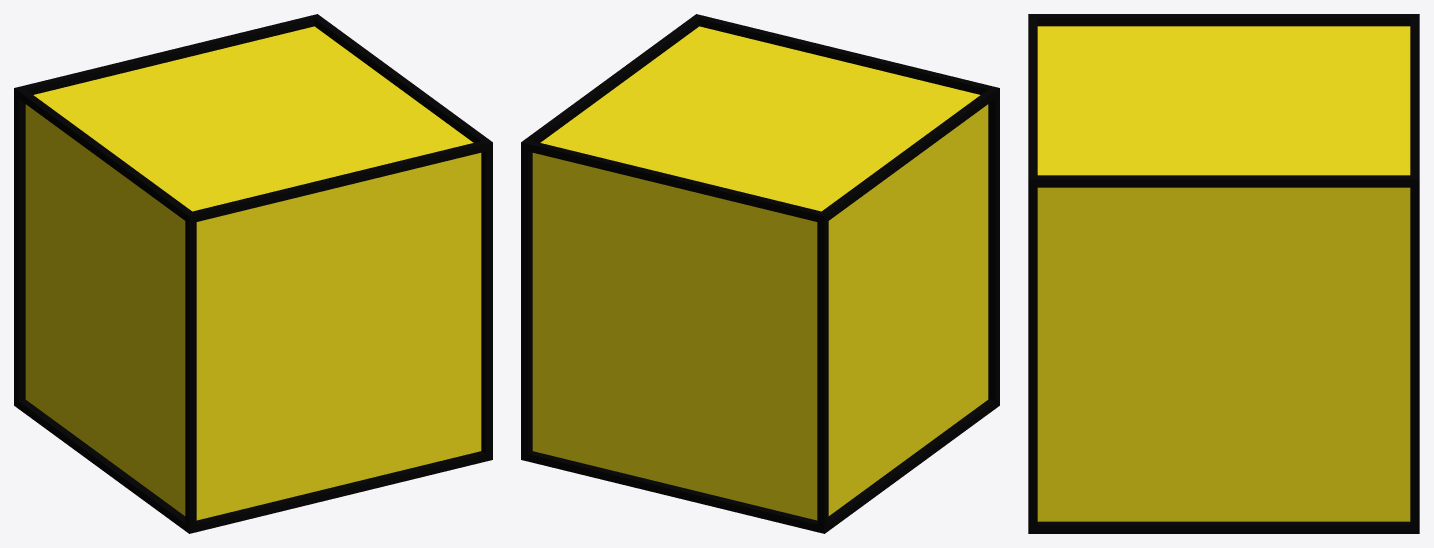
The model's file is yellowOutline.fbx.
The picture shows the model from 3 angles, left to right: view 1: azimuth 30°, elevation 25°; view 2: azimuth 150°, elevation 25°; view 3: azimuth 270°, elevation 25°; orthographic projection. The views are drawn at different scales.
Visible parts, largest first — view 1: yellowOutline; view 2: yellowOutline; view 3: yellowOutline.
Part boxes in pixels (x1=…): yellowOutline: x1=14, y1=14, x2=492, y2=533; yellowOutline: x1=521, y1=14, x2=999, y2=533; yellowOutline: x1=1028, y1=14, x2=1419, y2=533.
Size of the model in its own units: 1.05 by 1.05 by 1.05.
